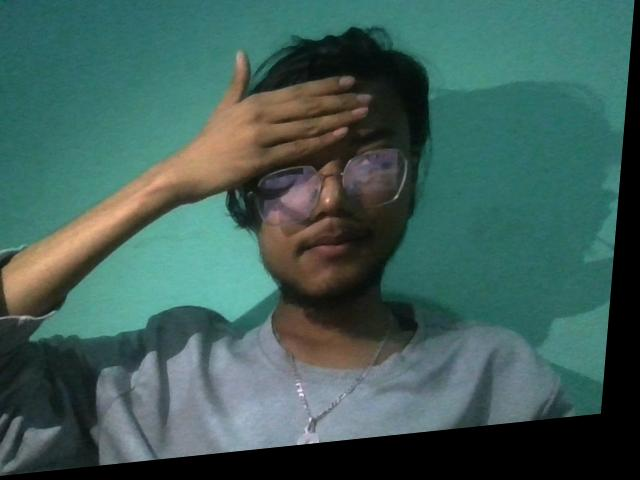forget: (167, 32, 393, 208)
